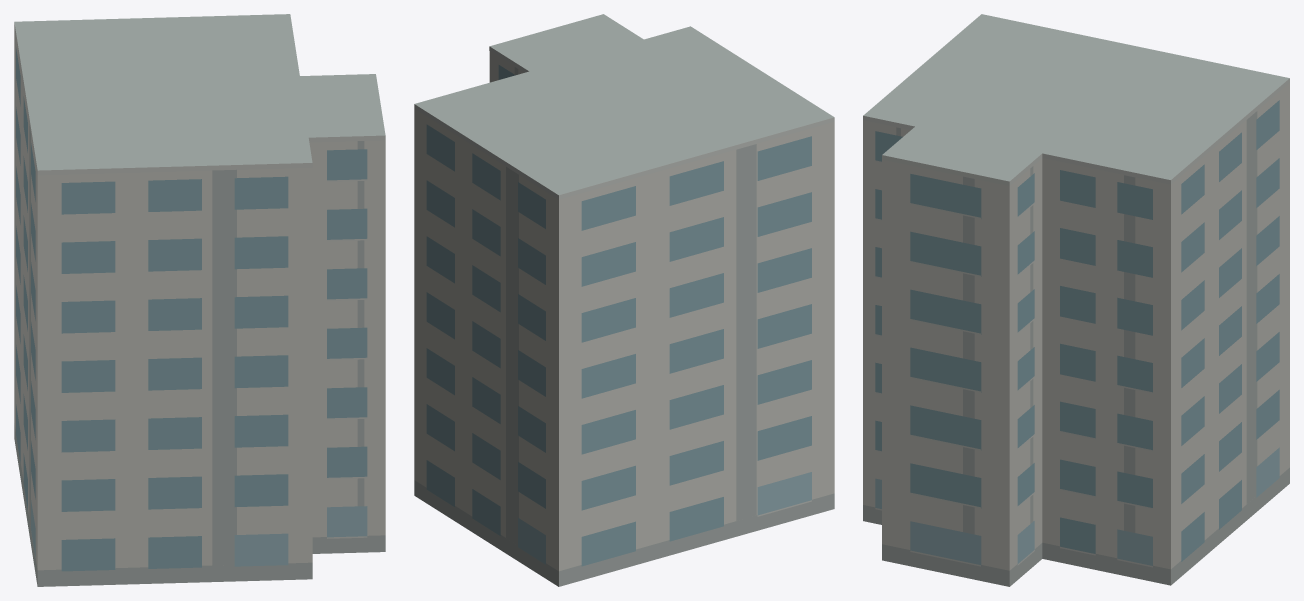
File: residential-c69aba42-ca9a-4ce7-a20c-a3509aeee775.glb
3 views of the same model, side by side, from view 1: azimuth 30°, elevation 25°; view 2: azimuth 150°, elevation 25°; view 3: azimuth 270°, elevation 25° (orthographic). The views are drawn at different scales.
Visible parts, largest first — view 1: residential-c69aba42-ca9a-4ce7-a20c-a3509aeee775.tmp; view 2: residential-c69aba42-ca9a-4ce7-a20c-a3509aeee775.tmp; view 3: residential-c69aba42-ca9a-4ce7-a20c-a3509aeee775.tmp.
Part boxes in pixels (x1,y1,x2,y2): residential-c69aba42-ca9a-4ce7-a20c-a3509aeee775.tmp: [14, 14, 385, 586]; residential-c69aba42-ca9a-4ce7-a20c-a3509aeee775.tmp: [414, 14, 834, 586]; residential-c69aba42-ca9a-4ce7-a20c-a3509aeee775.tmp: [863, 14, 1289, 586].
Bounding box in the file's own units: 18.62 × 21 × 20.05.
